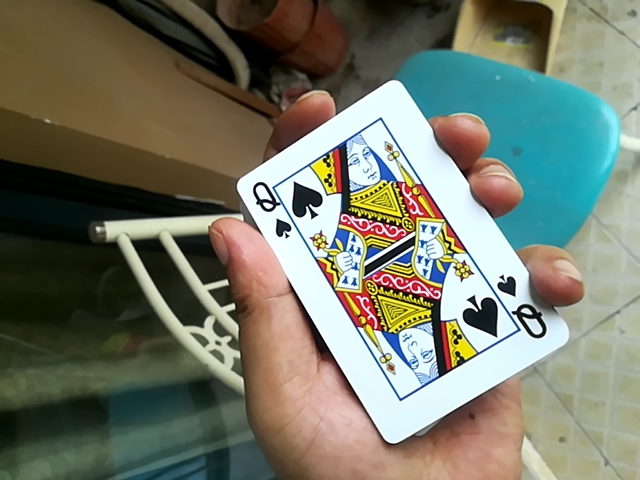ht q: (221, 82, 571, 441)
